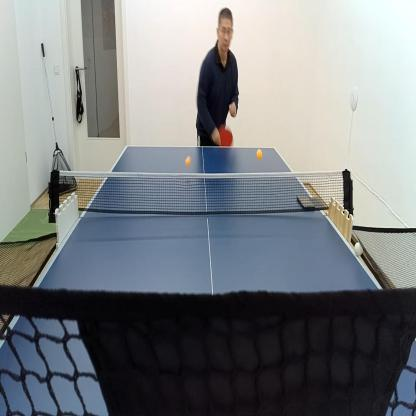Ball: (355, 241, 362, 256), (256, 148, 262, 159), (185, 156, 191, 166)
